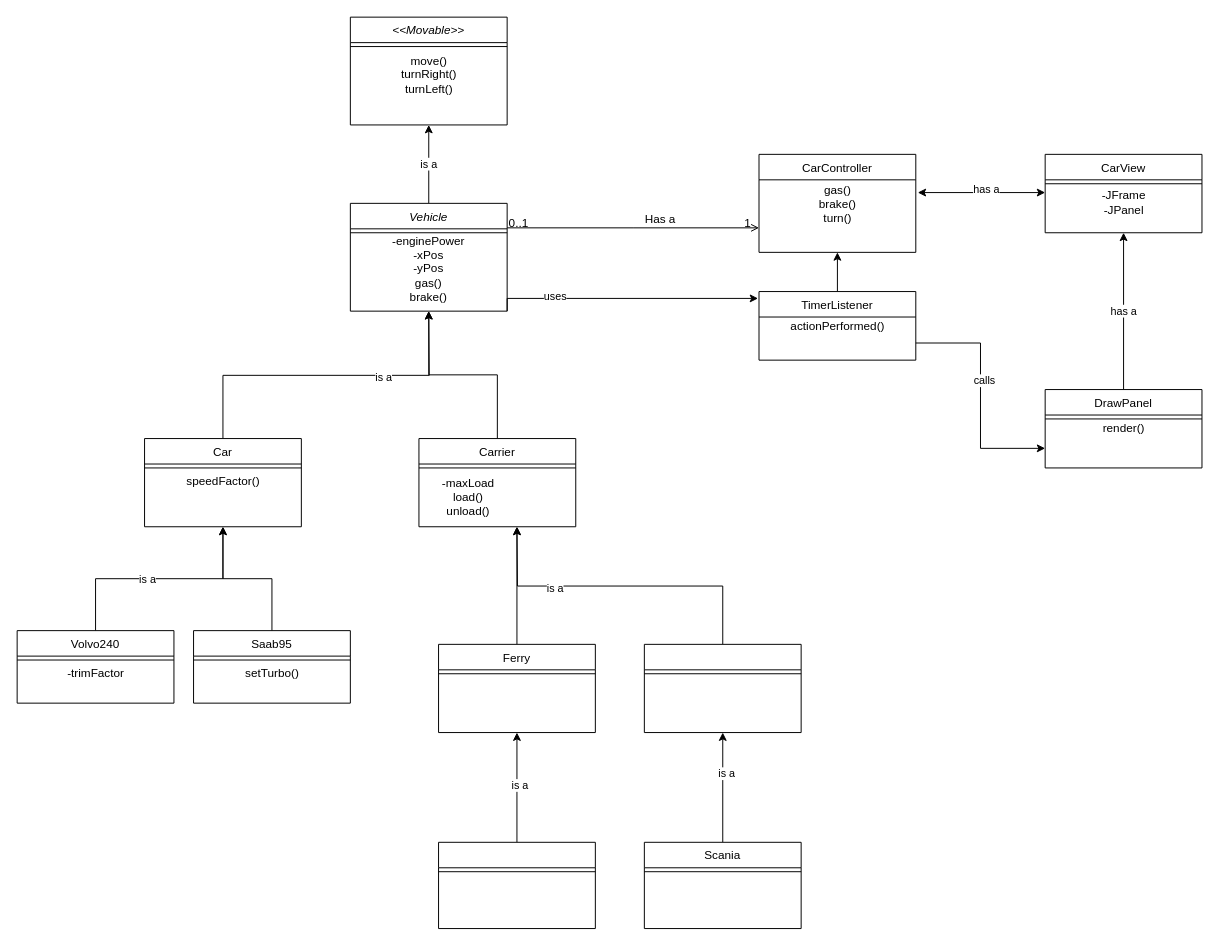
Image size: 1219x946. Some labels were removed from this diagram. The centre of each missing label's shape, as x and y in pixels:
"Boaty" belongs at point 516,885.
"Truck" belongs at point 722,688.
